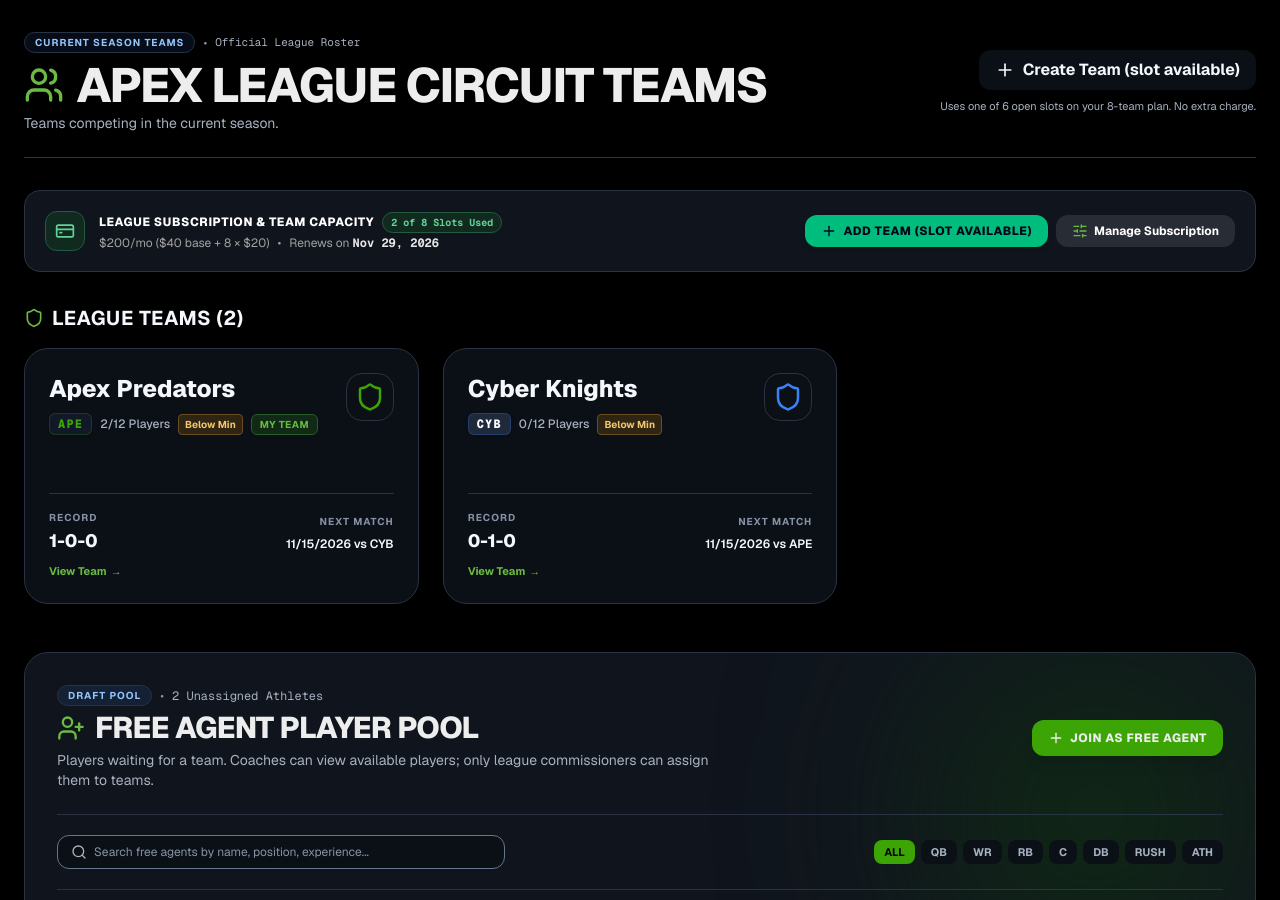
Test case: TeamsPage Comprehensive Suite › allows adding a new team using the header inline team creator
This screenshot has width=1280, height=900.
// Click Create Team button to open inline input
Click the button "Create Team (slot available)": (1117, 70) [979,50,1256,90]
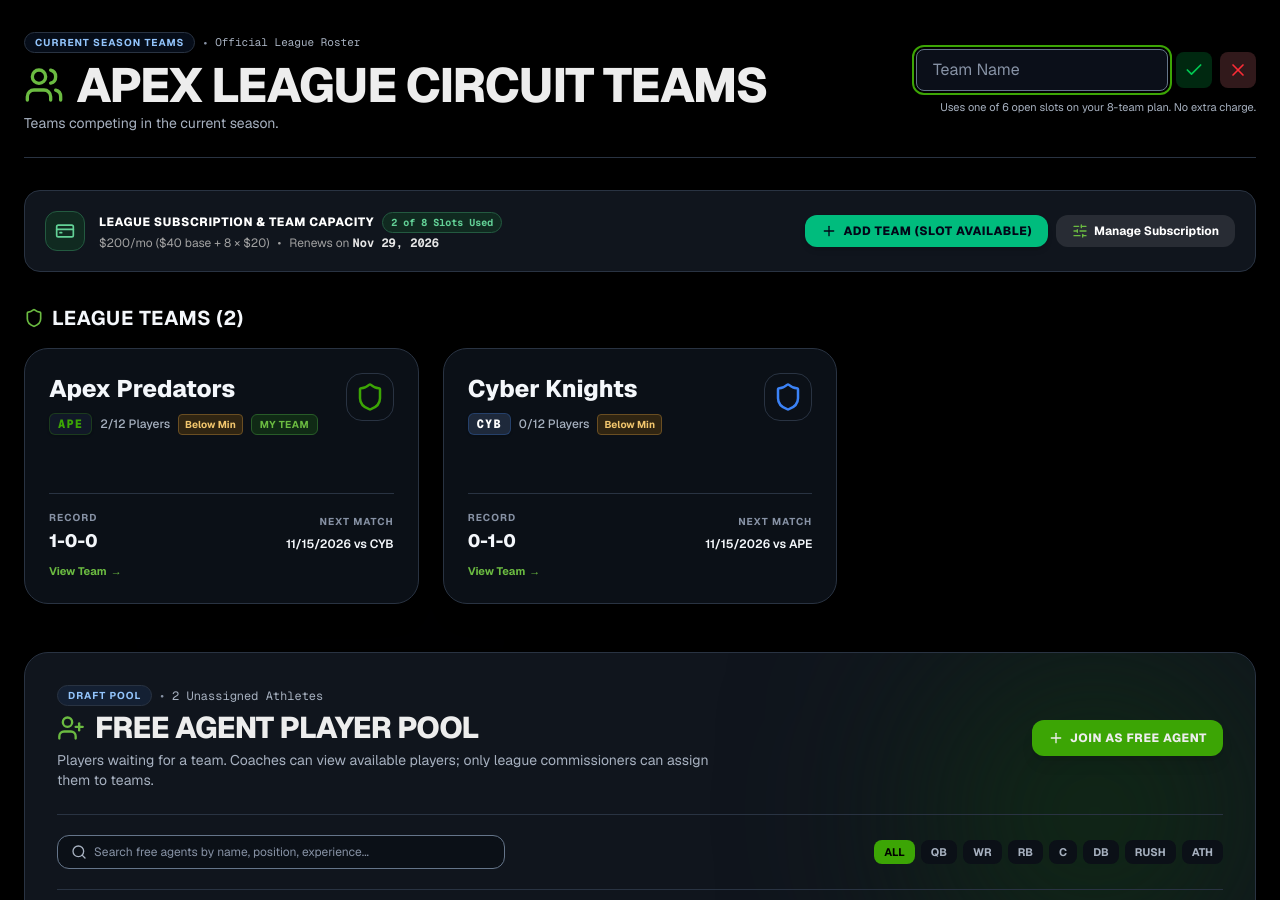
expect the field named "New team name" is shown: met
In the field named "New team name": (1042, 70) [916,49,1168,91], type "Shadow Wolves"
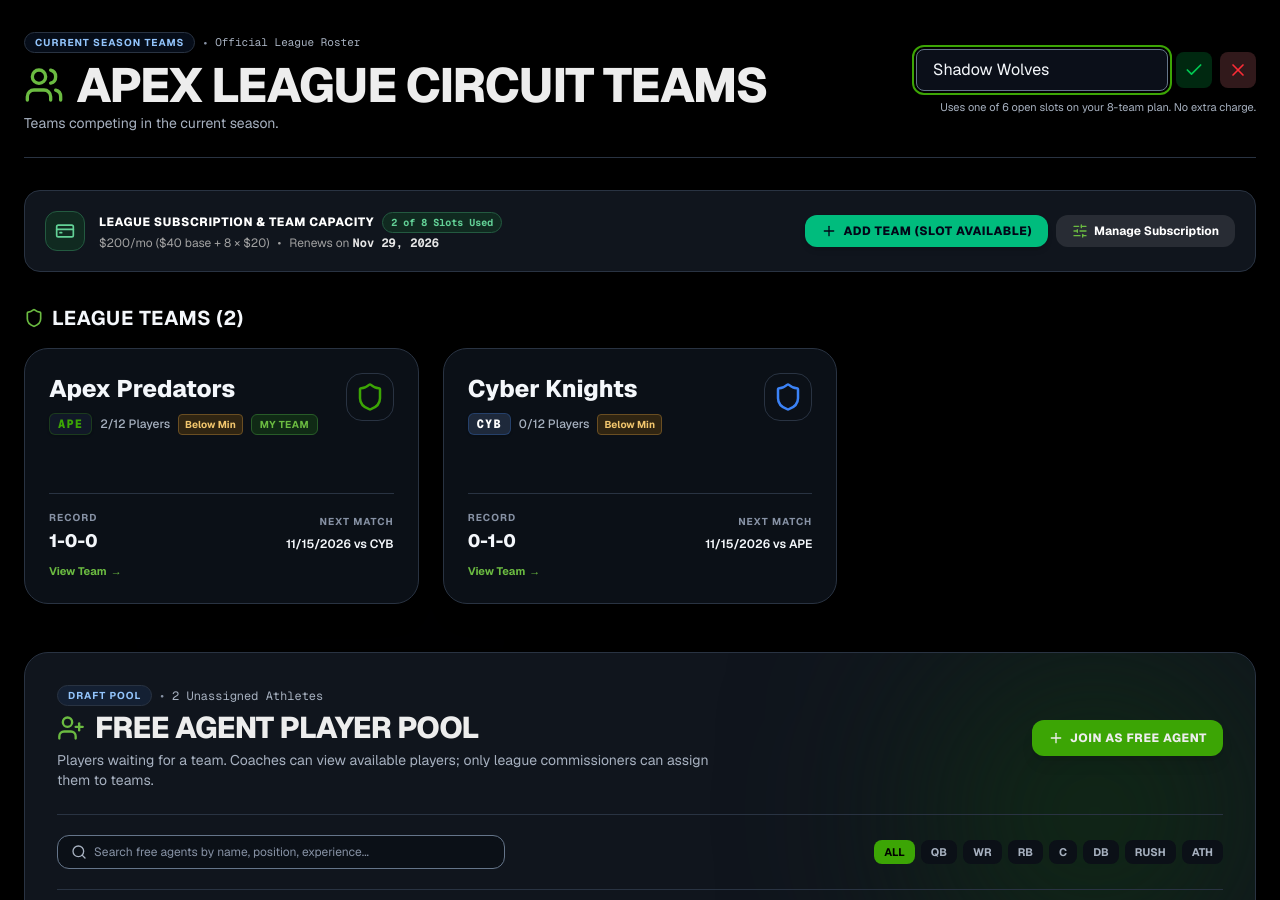
Click the button named "Add team": (1194, 70) [1176,52,1212,88]
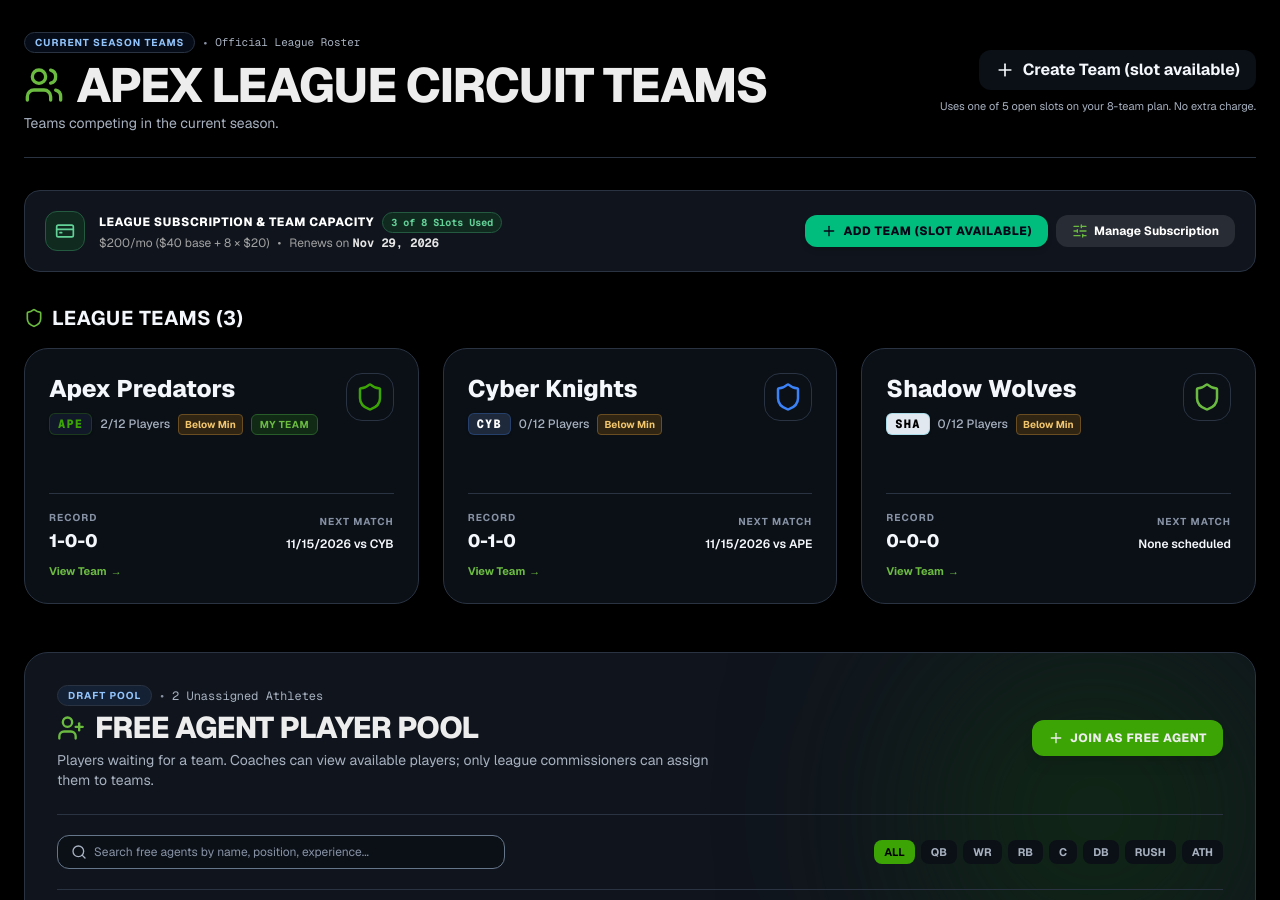
expect the heading "Shadow Wolves" is shown: met, box [886,373,1081,405]
